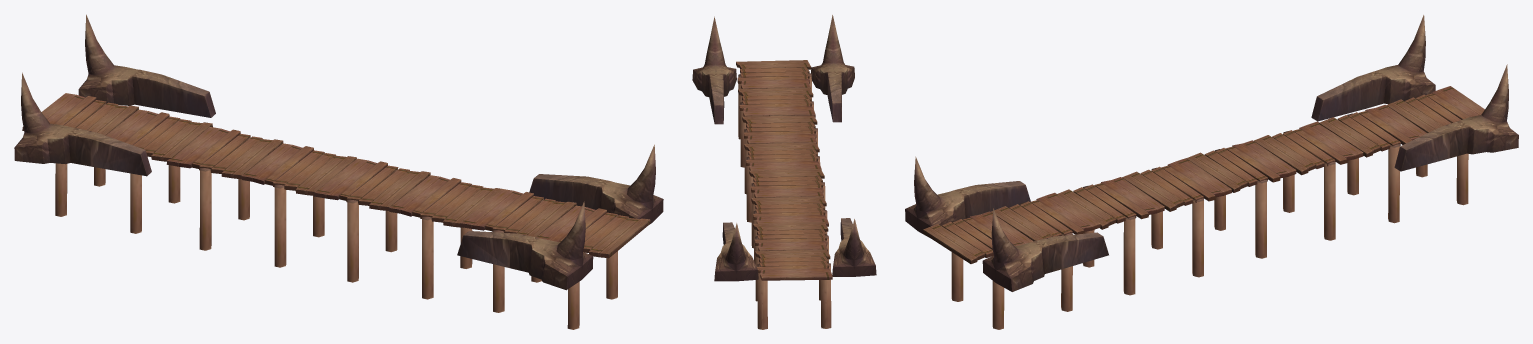
File: area_09_11.fbx
The picture shows the model from 3 angles, left to right: view 1: azimuth 30°, elevation 25°; view 2: azimuth 150°, elevation 25°; view 3: azimuth 270°, elevation 25°; orthographic projection. The views are drawn at different scales.
Visible parts, largest first — view 1: area_09_11; view 2: area_09_11; view 3: area_09_11.
Boxes of the visible parts, left/top/right/bottom form: area_09_11: left=14, top=14, right=663, bottom=329; area_09_11: left=692, top=15, right=876, bottom=329; area_09_11: left=905, top=15, right=1518, bottom=329.
Bounding box in the file's own units: 36.43 × 11.91 × 45.96.
